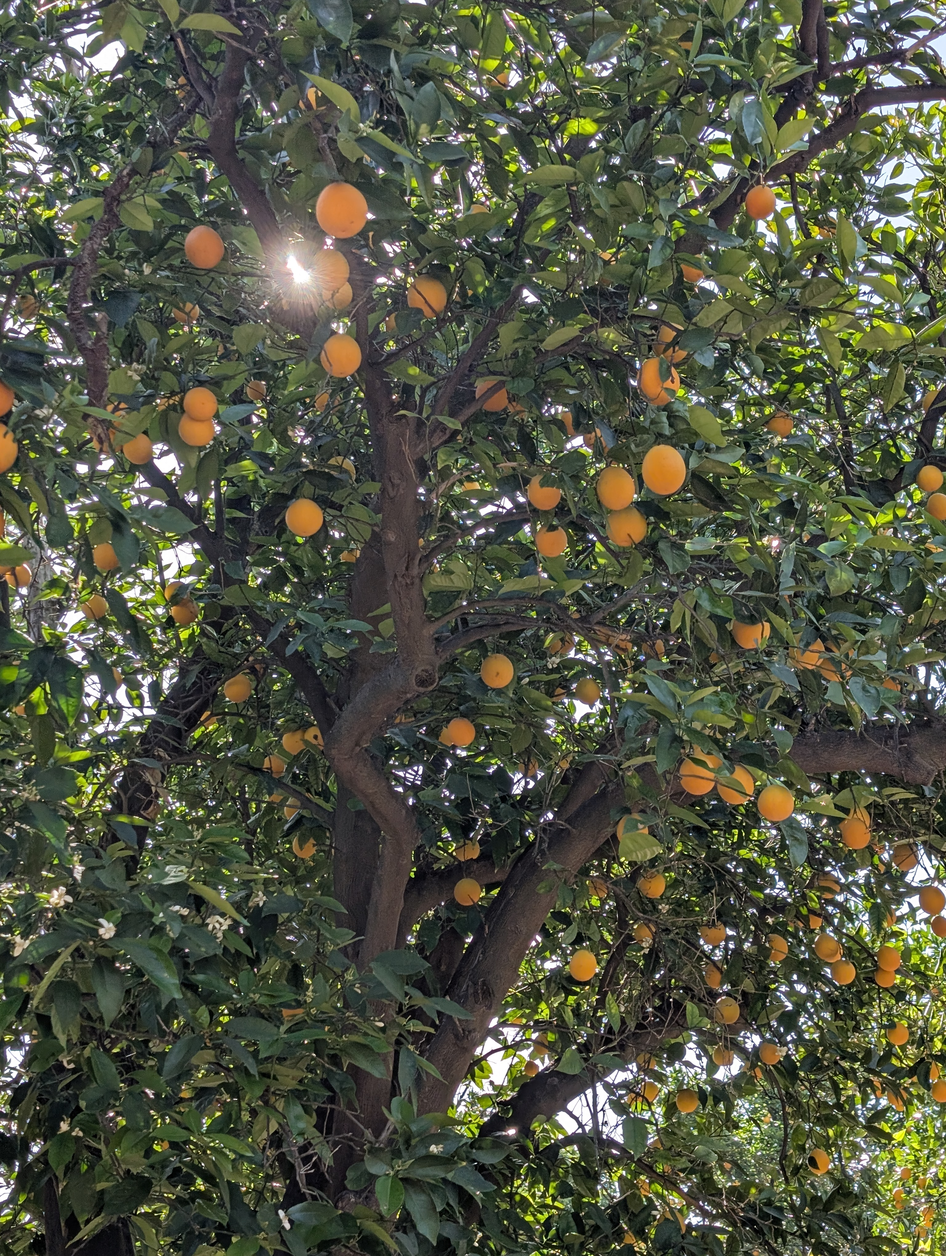orange: (315, 182, 367, 238), (641, 445, 686, 495), (637, 356, 679, 405), (312, 249, 349, 299), (320, 333, 362, 377), (680, 751, 722, 795), (596, 465, 635, 510), (184, 226, 224, 268), (407, 275, 447, 317), (607, 506, 647, 547), (285, 498, 324, 537), (718, 765, 755, 805), (757, 783, 794, 822), (820, 640, 854, 680), (179, 413, 216, 446), (527, 475, 561, 510), (183, 387, 218, 420), (481, 654, 514, 688), (730, 621, 770, 649), (120, 432, 153, 465), (476, 378, 508, 411), (745, 184, 775, 219), (840, 817, 871, 849), (568, 949, 598, 982), (789, 640, 823, 669), (536, 526, 568, 556), (0, 424, 18, 473), (445, 718, 475, 747), (223, 673, 252, 702), (919, 885, 946, 916), (616, 814, 648, 840), (637, 871, 666, 899), (454, 878, 482, 906), (916, 464, 943, 493), (815, 933, 842, 962), (93, 542, 119, 572), (765, 411, 793, 438), (574, 678, 601, 706), (170, 599, 199, 625), (714, 996, 740, 1025), (893, 842, 918, 872), (81, 594, 109, 620), (172, 302, 200, 326), (831, 959, 856, 985), (807, 1148, 831, 1175), (545, 633, 575, 654), (453, 839, 480, 862), (328, 456, 355, 479), (816, 874, 840, 899), (675, 1088, 699, 1113), (877, 945, 900, 971), (700, 923, 726, 946), (331, 282, 352, 310), (18, 292, 39, 320), (767, 934, 788, 962), (6, 565, 31, 588), (282, 730, 305, 755), (93, 433, 120, 454), (926, 492, 946, 520), (292, 836, 316, 859), (0, 380, 15, 416), (263, 754, 286, 777), (887, 1021, 909, 1045), (657, 324, 682, 345), (635, 923, 657, 946), (759, 1041, 779, 1066), (921, 387, 940, 413), (704, 961, 722, 988), (558, 410, 576, 437), (712, 1045, 734, 1066), (303, 725, 323, 748), (588, 877, 608, 900), (660, 346, 686, 363), (612, 633, 633, 654), (246, 380, 266, 402), (874, 968, 895, 988), (681, 263, 703, 282), (589, 627, 612, 645), (155, 395, 180, 410), (672, 1209, 686, 1235), (931, 1079, 946, 1103), (105, 402, 128, 417), (636, 1052, 656, 1069), (281, 1007, 305, 1021), (931, 915, 946, 937), (643, 1081, 658, 1103), (888, 1088, 907, 1105), (107, 415, 124, 434), (164, 581, 180, 601), (847, 808, 869, 822), (200, 711, 218, 728), (306, 87, 319, 110), (532, 1035, 548, 1053), (869, 1077, 883, 1097), (340, 549, 360, 563), (314, 392, 329, 410), (284, 801, 299, 819), (523, 760, 538, 778), (807, 912, 822, 929), (883, 677, 900, 692), (524, 1061, 540, 1076), (508, 401, 526, 414), (886, 908, 899, 926), (654, 639, 665, 658), (657, 1213, 676, 1224), (627, 1092, 641, 1106), (870, 841, 884, 855), (495, 71, 508, 86), (899, 1166, 912, 1181), (621, 1232, 637, 1244), (594, 430, 606, 446), (113, 667, 123, 686), (708, 649, 721, 663), (619, 661, 633, 674), (470, 203, 488, 213), (925, 544, 943, 554), (930, 1062, 939, 1081), (463, 481, 480, 491), (583, 434, 595, 448), (558, 757, 570, 771), (639, 1180, 650, 1195), (599, 251, 614, 262), (664, 1166, 682, 1175), (818, 227, 834, 237), (268, 793, 284, 803), (0, 565, 13, 577), (0, 509, 5, 538), (14, 704, 26, 716), (643, 642, 655, 654), (608, 633, 617, 649), (751, 1066, 762, 1079), (394, 716, 414, 723), (554, 687, 566, 698), (680, 41, 694, 50), (241, 656, 256, 664), (177, 76, 188, 86), (652, 1140, 662, 1151), (179, 87, 189, 98), (895, 1190, 904, 1201), (923, 1207, 934, 1216), (790, 921, 803, 928), (254, 664, 263, 674), (218, 344, 225, 356), (895, 1102, 904, 1111), (919, 1178, 926, 1189), (917, 1227, 926, 1235), (879, 861, 886, 871), (178, 152, 188, 159), (570, 612, 581, 618), (418, 537, 424, 547), (742, 1064, 750, 1071), (71, 223, 78, 231), (512, 1018, 521, 1024), (926, 1218, 933, 1225), (896, 1203, 903, 1210), (932, 987, 940, 993), (724, 1162, 730, 1169), (163, 1141, 169, 1148), (783, 595, 788, 603), (181, 1093, 190, 1097), (764, 1117, 770, 1122), (604, 448, 609, 453), (733, 1182, 739, 1186), (753, 1250, 758, 1253), (908, 1127, 911, 1131)
